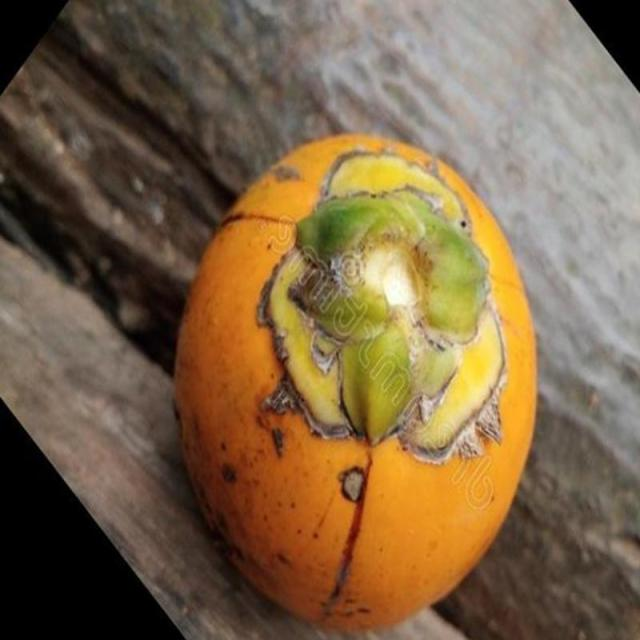good: (172, 133, 538, 634)
